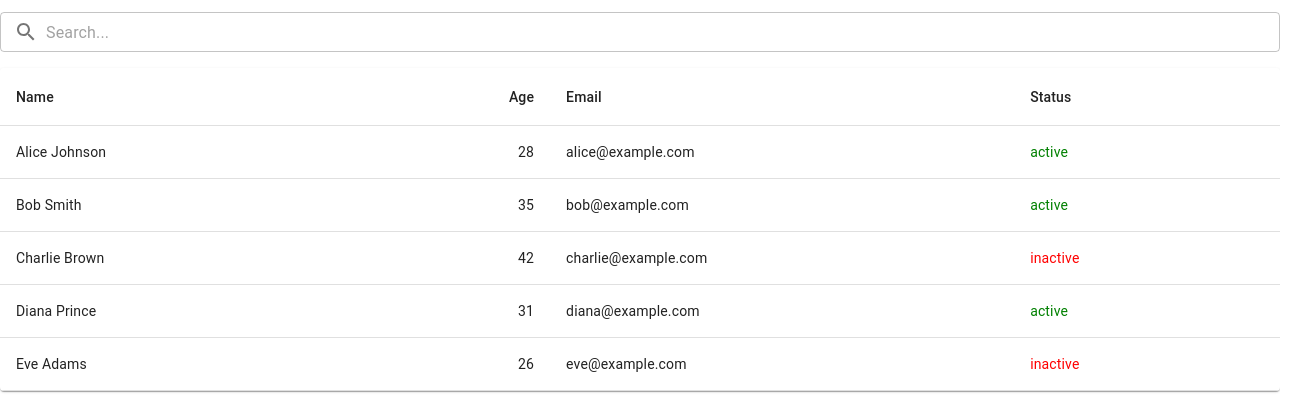
Test: ModernTable Component › Search Functionality (Requirement 43.8) › should search only specified fields when searchFields is provided
// Search by email (should not find anything since we only search name)
Type "bob@example" into the field with placeholder "Search..." at (663, 32), box [46, 12, 1280, 52]
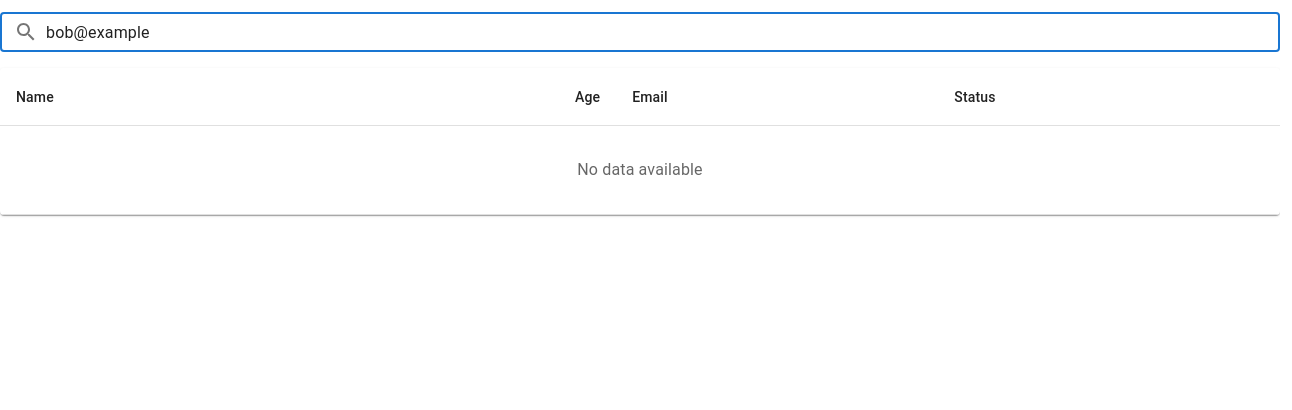
Result: the text "No data available" is shown at [577, 160, 703, 179]
// Search by name (should work)
Replace the text in the field with placeholder "Search..." with "Bob" at (663, 32), box [46, 12, 1280, 52]
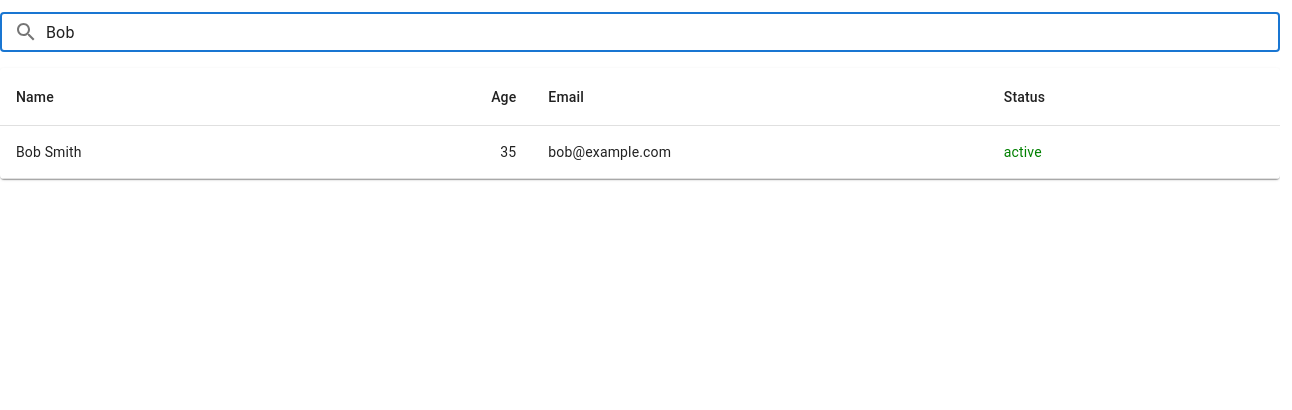
Result: the text "Bob Smith" is shown at [0, 126, 288, 179]
